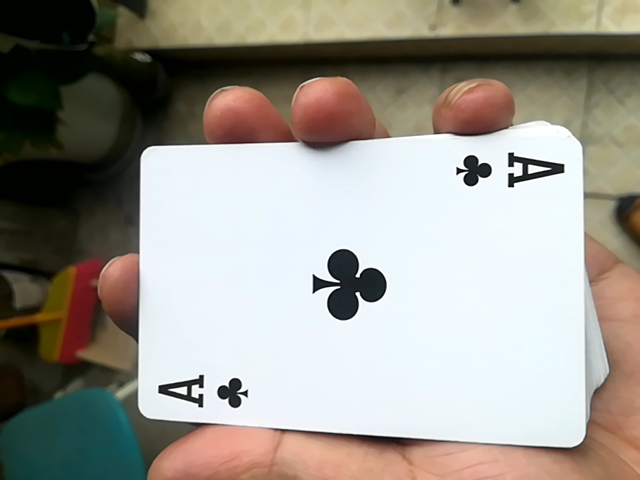mh a: (124, 129, 594, 452)
